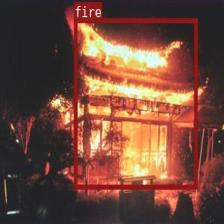fire: (73, 17, 196, 189)
